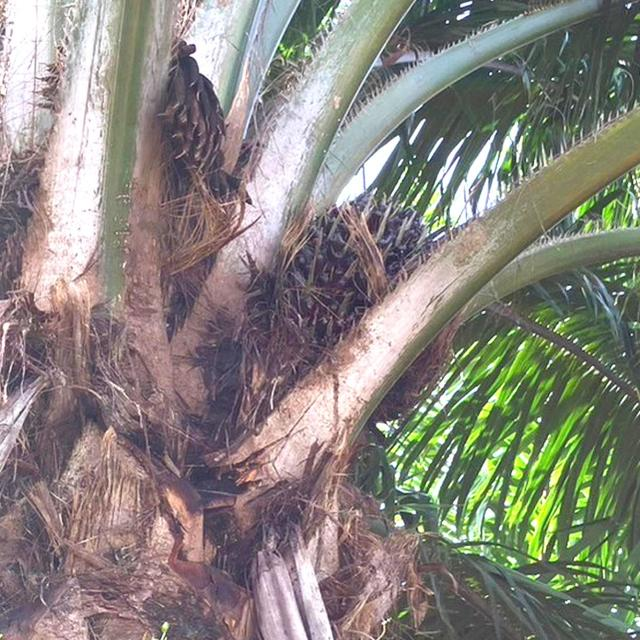unripe: (293, 200, 442, 358)
